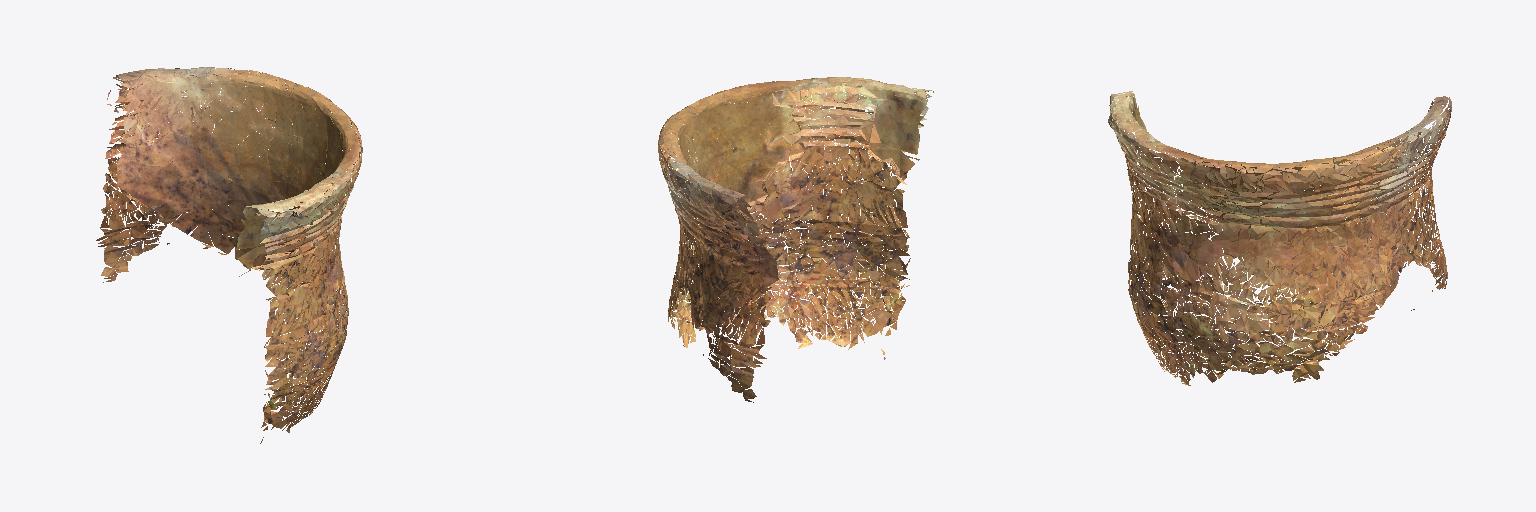
3 renders of one model, left to right at view 1: azimuth 30°, elevation 25°; view 2: azimuth 150°, elevation 25°; view 3: azimuth 270°, elevation 25°, orthographic.
Visible parts, largest first — view 1: _09:Mesh.000__09:Mesh.004; view 2: _09:Mesh.000__09:Mesh.004; view 3: _09:Mesh.000__09:Mesh.004.
Boxes of the visible parts, box(x1,y1,x2,y2) form: _09:Mesh.000__09:Mesh.004: box(96, 67, 362, 443); _09:Mesh.000__09:Mesh.004: box(658, 77, 933, 402); _09:Mesh.000__09:Mesh.004: box(1108, 91, 1451, 385).
Bounding box in the file's own units: 8.96 × 13.29 × 15.44.
15 materials, 15 textured.